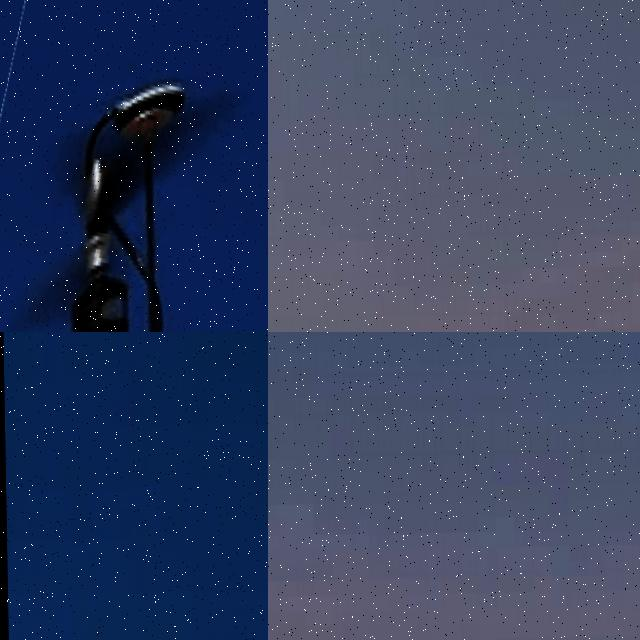drone: (0, 0, 268, 332)
